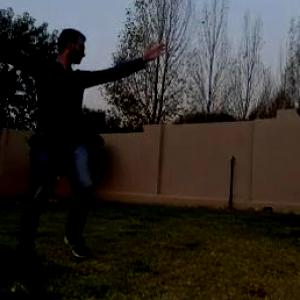takeoff: (0, 18, 175, 260)
